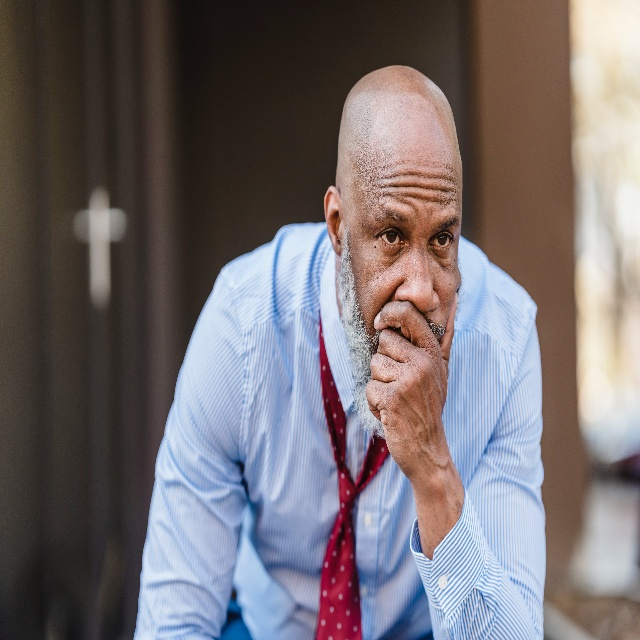Sin_guantes: (365, 289, 462, 481)
